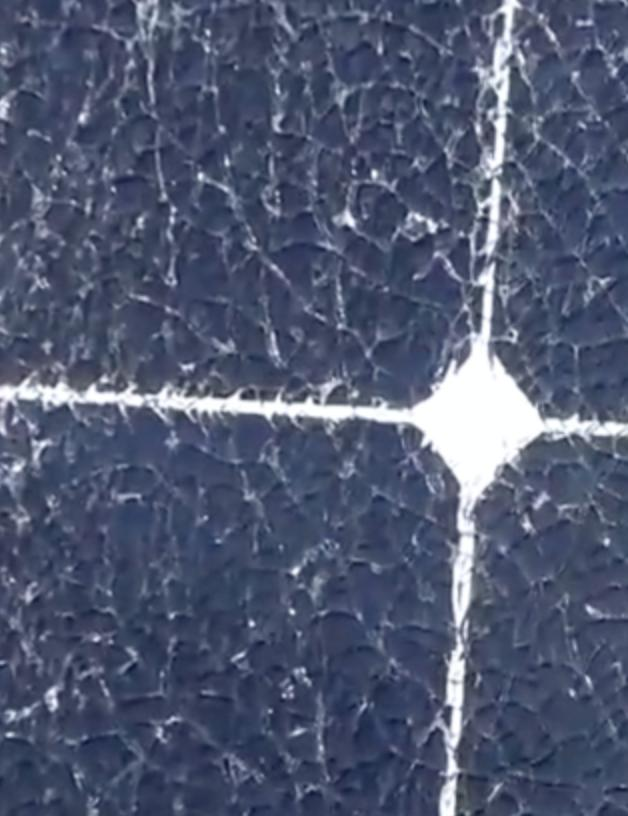Crack: (8, 10, 622, 786)
